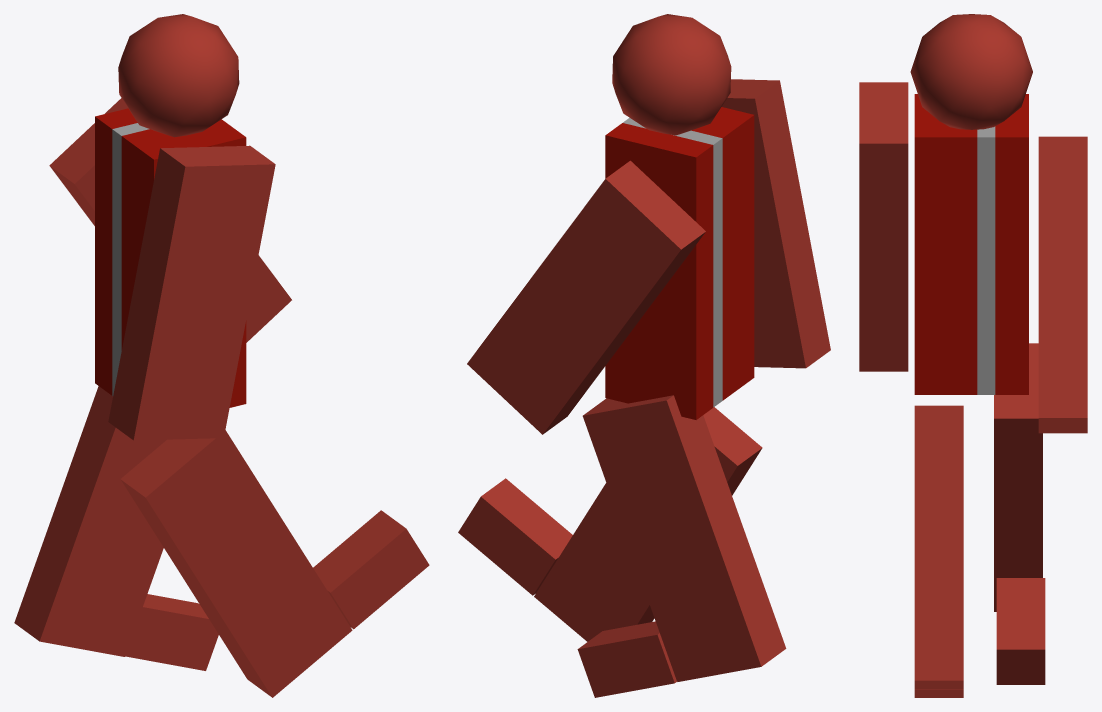
Rendered from player_000029.obj.
3 renders of one model, left to right at view 1: azimuth 30°, elevation 25°; view 2: azimuth 150°, elevation 25°; view 3: azimuth 270°, elevation 25°, orthographic. The views are drawn at different scales.
Parts seen in each view (by area): view 1: Cube.013, Cube.010, Cube.008, Cube.007, Icosphere.001, Cube.011, Cube.009, Cube.012; view 2: Cube.008, Cube.007, Cube.012, Cube.013, Cube.010, Icosphere.001, Cube.011, Cube.009; view 3: Cube.007, Cube.012, Cube.013, Cube.010, Icosphere.001, Cube.008, Cube.009, Cube.011.
Part boxes in pixels (x1,y1,x2,y2): Cube.013: (108, 145, 275, 440); Cube.010: (120, 430, 352, 697); Cube.008: (14, 386, 166, 656); Cube.007: (95, 108, 246, 407); Icosphere.001: (118, 14, 239, 137); Cube.011: (313, 510, 429, 629); Cube.009: (125, 594, 218, 670); Cube.012: (49, 98, 291, 342); Cube.008: (582, 395, 786, 681); Cube.007: (605, 107, 754, 419); Cube.012: (467, 160, 705, 434); Cube.013: (721, 79, 830, 368); Cube.010: (534, 407, 762, 641); Icosphere.001: (612, 14, 731, 135); Cube.011: (458, 478, 572, 595); Cube.009: (577, 621, 676, 697); Cube.007: (914, 94, 1028, 394); Cube.012: (1038, 136, 1087, 433); Cube.013: (859, 82, 908, 371); Cube.010: (914, 405, 963, 697); Icosphere.001: (910, 14, 1032, 129); Cube.008: (994, 343, 1042, 611); Cube.009: (996, 578, 1045, 684); Cube.011: (914, 629, 963, 688).
Size of the model in its own units: 1.56 by 2.87 by 0.9137.
